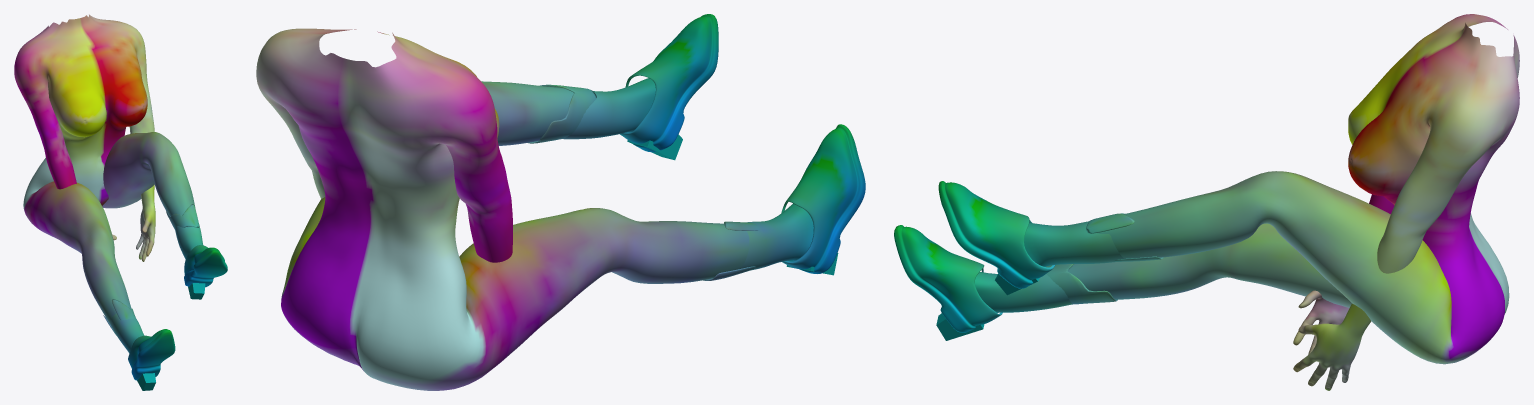
The model's file is lounge-legs-lift.glb.
3 renders of one model, left to right at view 1: azimuth 30°, elevation 25°; view 2: azimuth 150°, elevation 25°; view 3: azimuth 270°, elevation 25°, orthographic. The views are drawn at different scales.
Visible parts, largest first — view 1: Human_baked, Human.shoes03_baked, shaft_baked, heel.R_baked, heel.L_baked; view 2: Human_baked, Human.shoes03_baked, shaft_baked; view 3: Human_baked, Human.shoes03_baked, shaft_baked.
Part boxes in pixels (x1,y1,x2,y2): Human_baked: (14, 14, 195, 324); Human.shoes03_baked: (110, 223, 227, 380); shaft_baked: (103, 204, 199, 335); heel.R_baked: (137, 373, 155, 390); heel.L_baked: (188, 283, 205, 299); Human_baked: (256, 28, 749, 390); Human.shoes03_baked: (563, 14, 865, 273); shaft_baked: (528, 84, 759, 280); Human_baked: (1067, 14, 1519, 390); Human.shoes03_baked: (894, 181, 1124, 332); shaft_baked: (1046, 213, 1163, 304).
Bounding box in the file's own units: 0.5576 × 0.7517 × 1.1.
